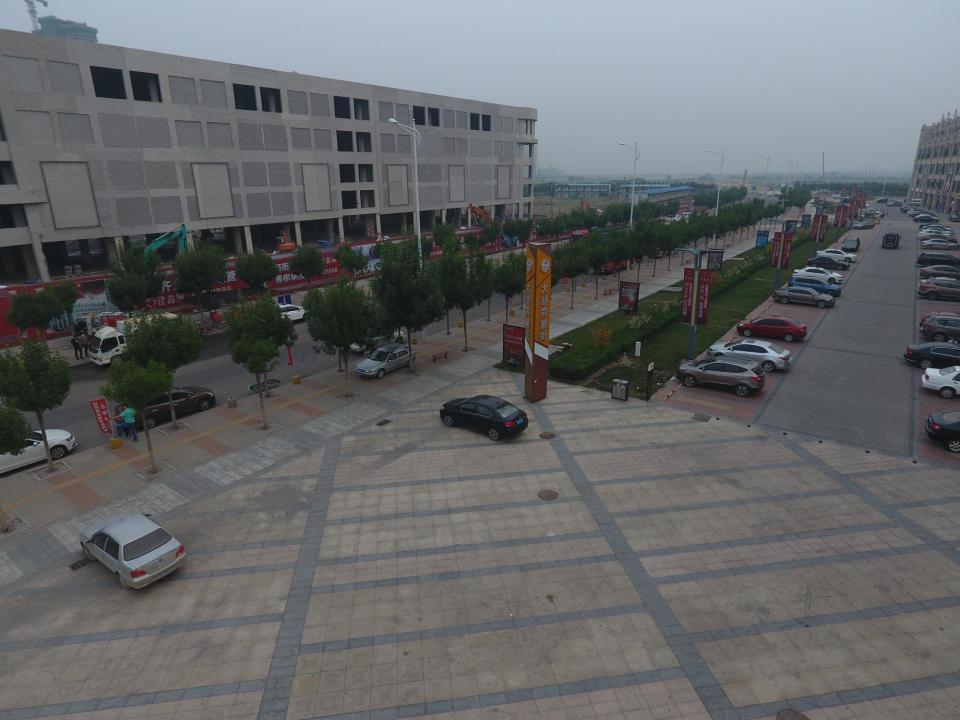bus: (590, 242, 636, 274)
car: (79, 511, 186, 590), (113, 385, 216, 429), (0, 429, 78, 483), (440, 395, 528, 441), (707, 340, 792, 373), (354, 343, 416, 378), (904, 342, 960, 376), (737, 315, 807, 342), (345, 323, 406, 353), (772, 286, 836, 308), (922, 366, 960, 400), (792, 266, 843, 284), (919, 312, 960, 332), (916, 252, 960, 270), (919, 264, 960, 282), (816, 248, 858, 262), (920, 239, 960, 250), (921, 234, 957, 245), (917, 230, 952, 240), (842, 237, 860, 252), (920, 228, 952, 236), (923, 224, 954, 232), (911, 210, 936, 218), (920, 224, 952, 230), (913, 216, 938, 223), (921, 226, 950, 232), (915, 214, 939, 221), (852, 222, 875, 229), (902, 207, 918, 213), (900, 206, 915, 210), (888, 202, 902, 206), (831, 194, 843, 198), (876, 199, 888, 203), (875, 198, 886, 202), (774, 193, 780, 197)
truck: (90, 312, 184, 369), (71, 312, 145, 342), (570, 224, 627, 252), (297, 240, 333, 255)
van: (676, 354, 765, 397), (257, 303, 312, 326), (920, 315, 960, 345), (788, 275, 841, 297), (917, 277, 960, 303), (882, 232, 901, 248), (661, 214, 681, 222), (907, 208, 925, 216), (677, 212, 693, 220), (908, 199, 922, 206), (886, 200, 898, 206), (766, 192, 772, 196)
